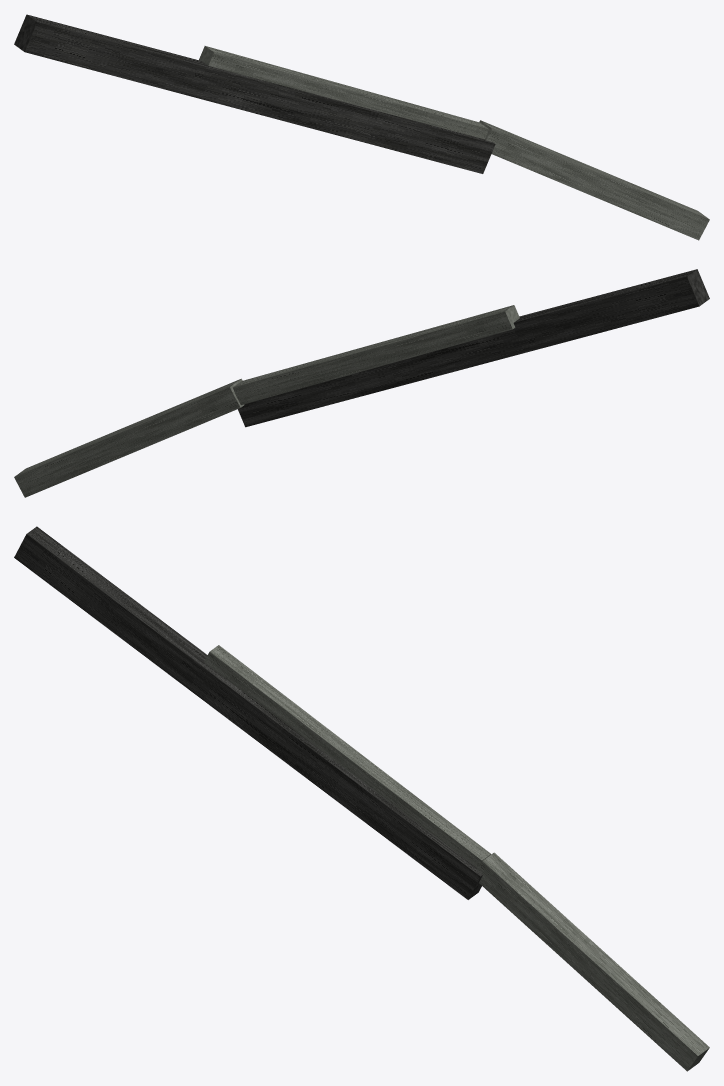
The model's file is wiper.glb.
3 views of the same model, one above another, from view 1: azimuth 30°, elevation 25°; view 2: azimuth 150°, elevation 25°; view 3: azimuth 330°, elevation 25° (orthographic).
Parts seen in each view (by area): view 1: Body; view 2: Body; view 3: Body.
Part boxes in pixels (box(x1,y1,x2,y2)): Body: box(14, 14, 709, 240); Body: box(14, 269, 709, 497); Body: box(14, 526, 709, 1071).
Size of the model in its own units: 0.6003 by 0.3188 by 0.022.
Materials: 1 (1 with a texture image).
